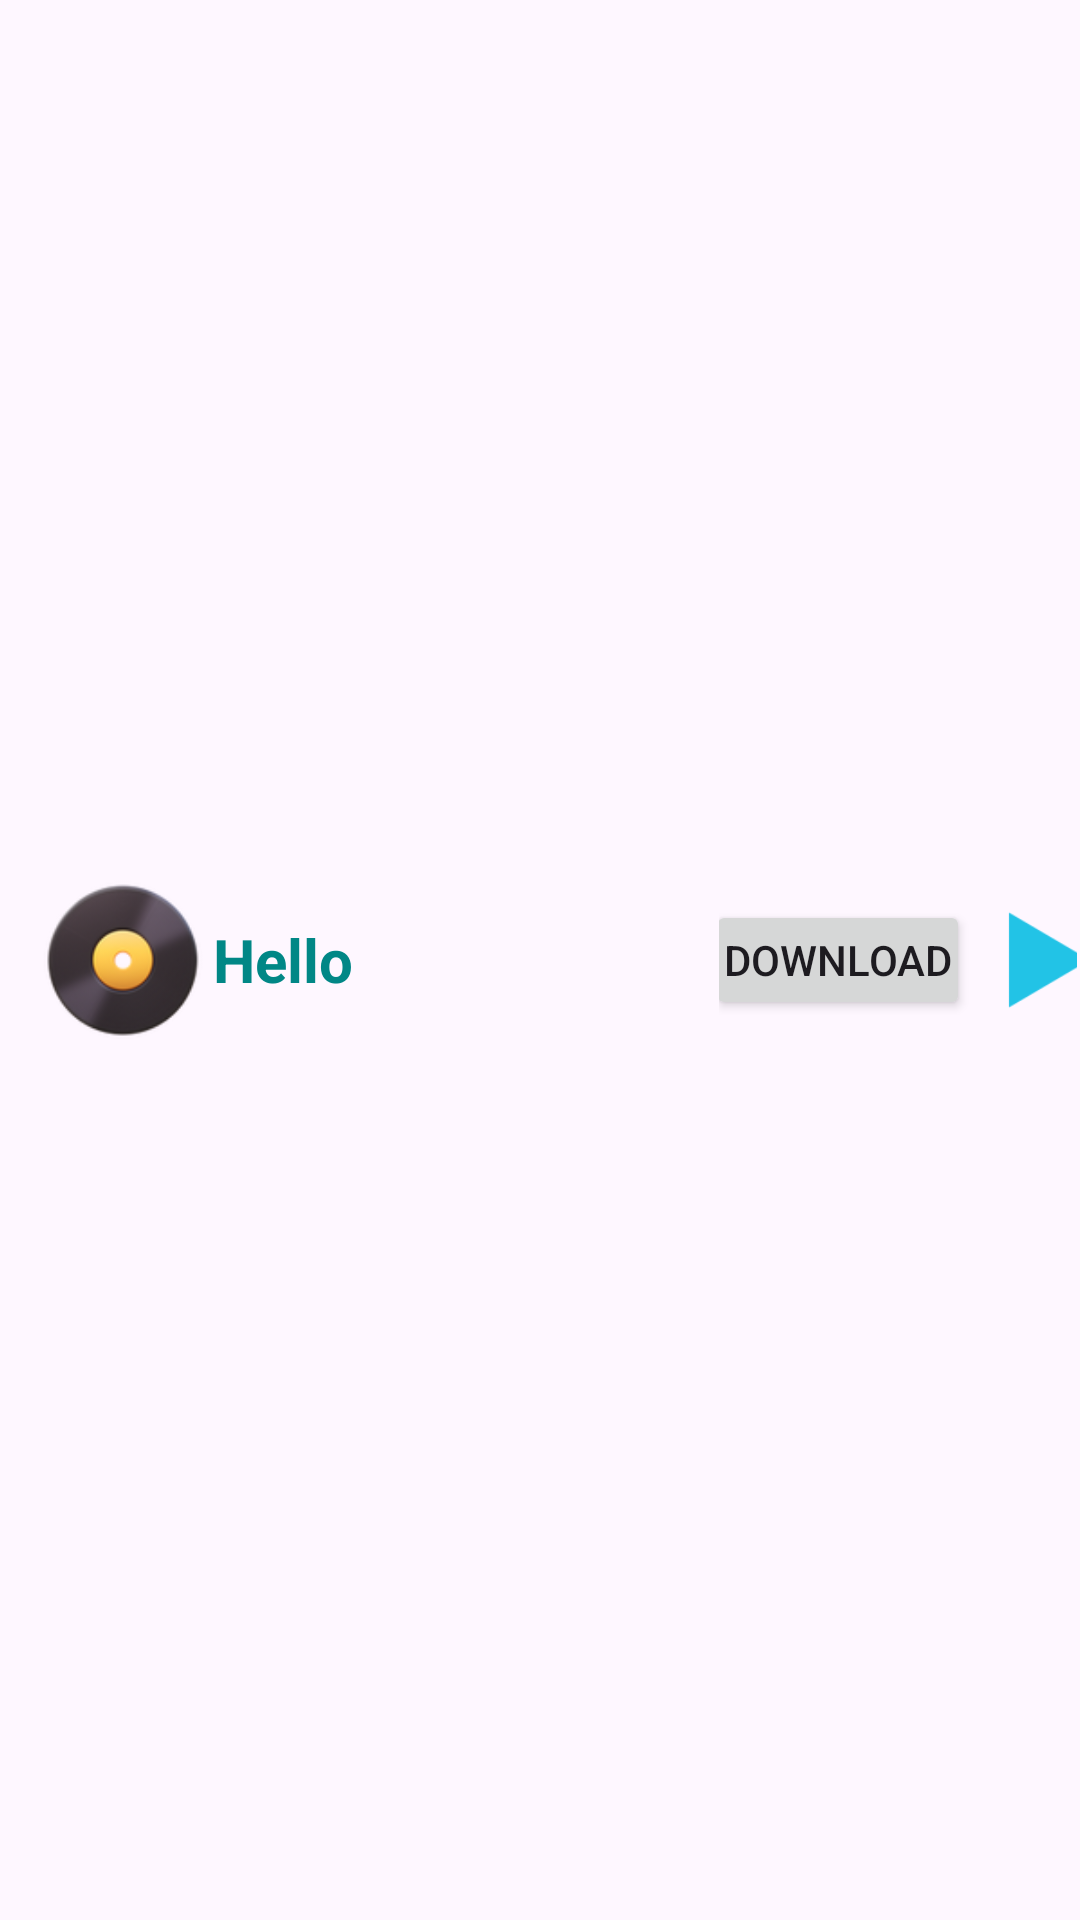

Named icons in this screenshot (1080 x 1920) and their bounding boxes, (x1, y1, x2, y2):
disk music: (47, 885, 199, 1036)
